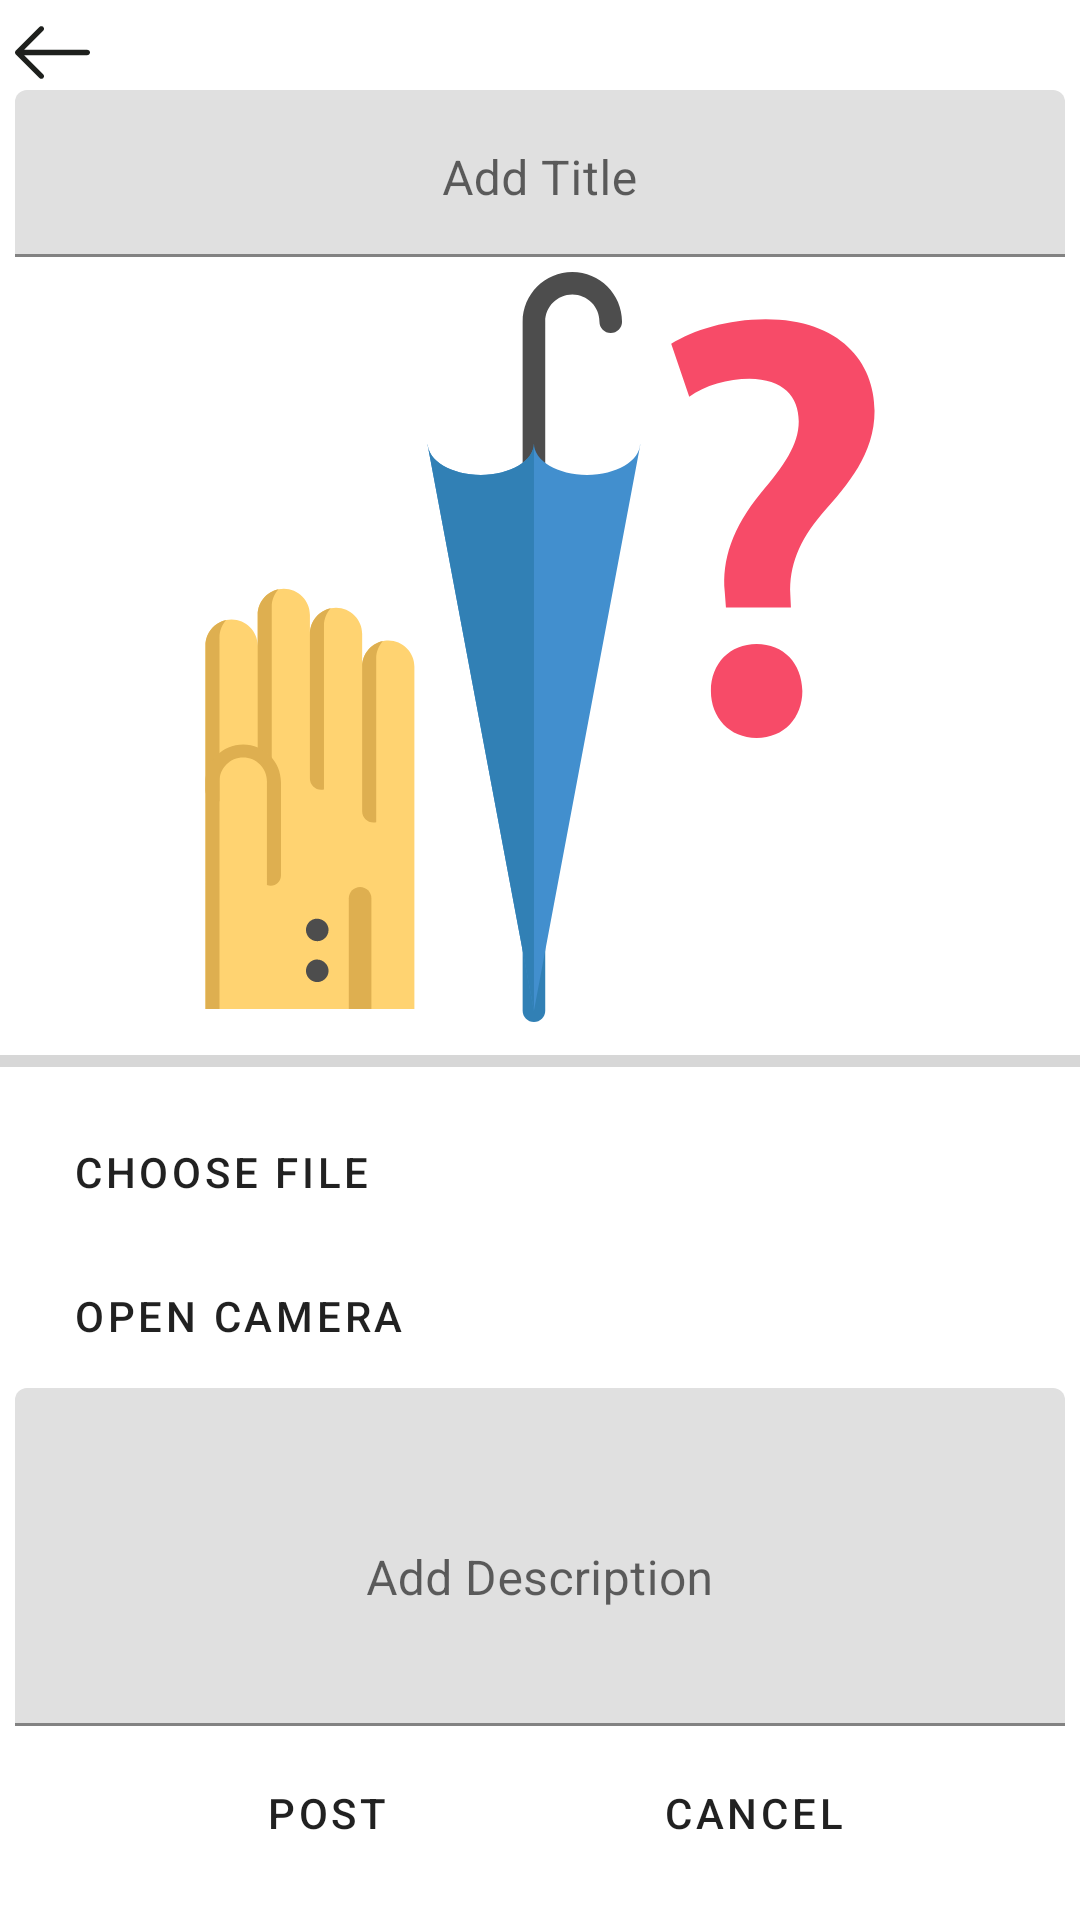

Screen size 1080×1920. Icon name, then its center in pixels as point (x, y):
back: point (52, 52)
